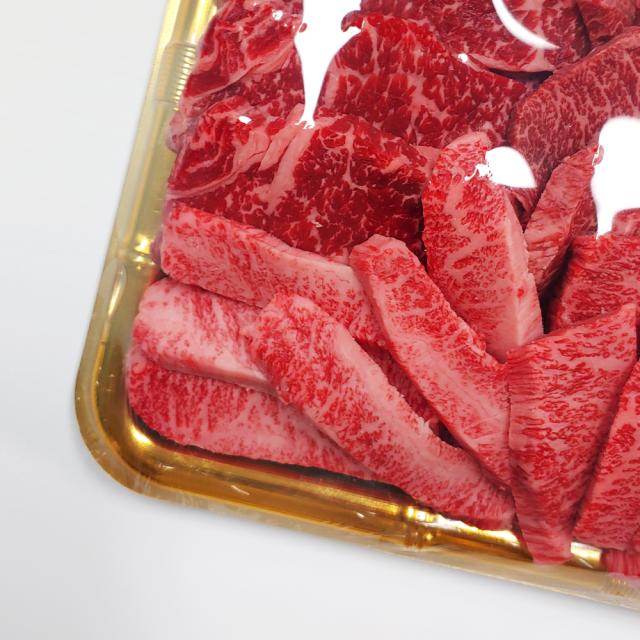beef: (199, 12, 636, 497)
